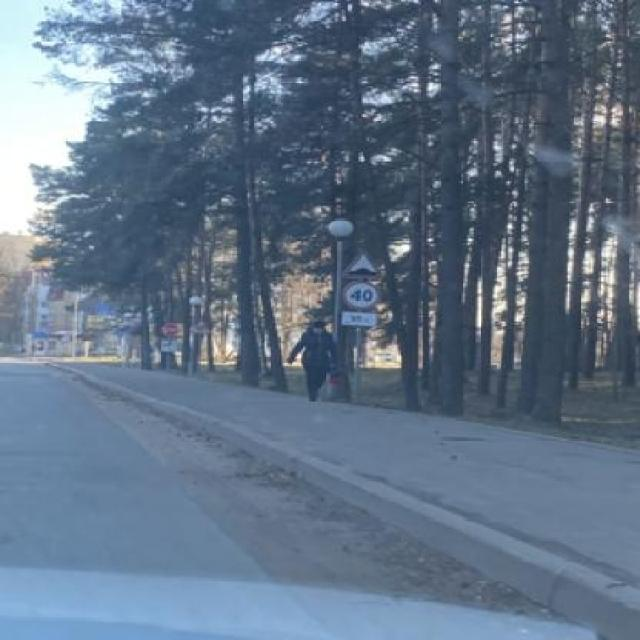forb_speed_over_40: (344, 282, 379, 311)
